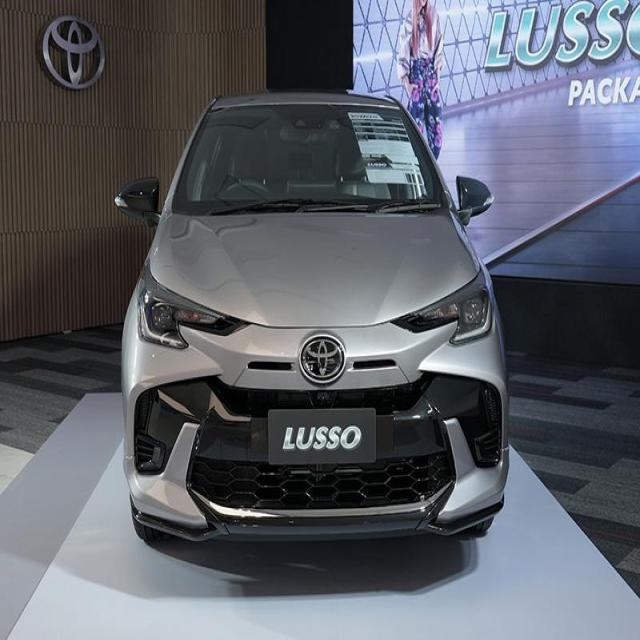Hatchback: (115, 92, 510, 540)
